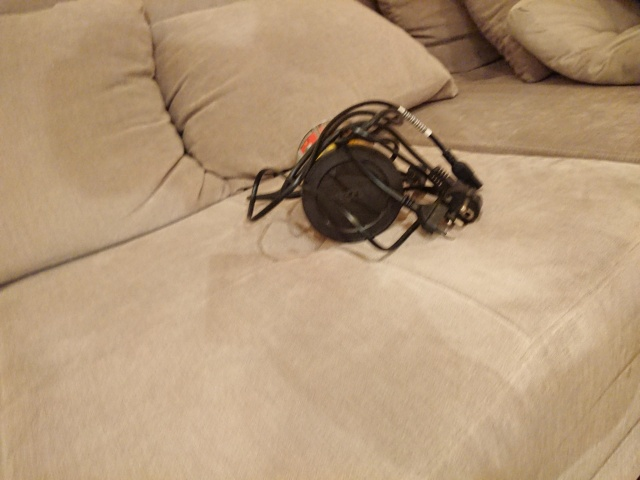Nescafe Classic 225g: (293, 115, 407, 245)
